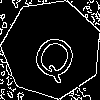Q: (27, 24, 86, 86)
